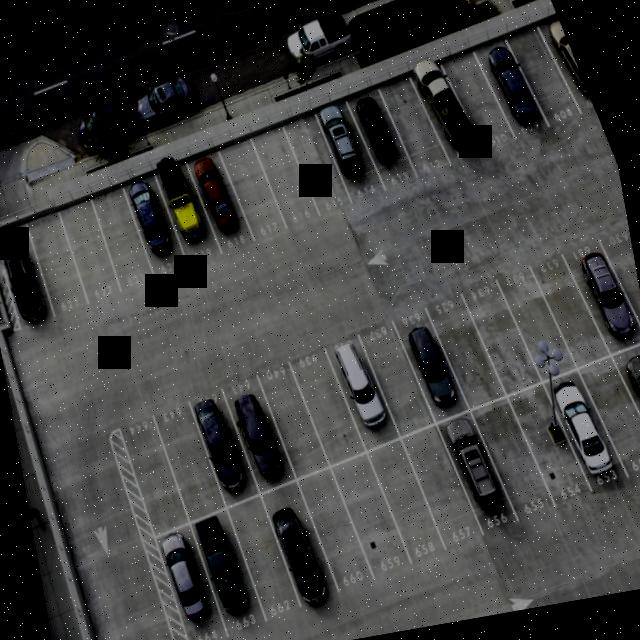car: (508, 375, 596, 514), (258, 470, 342, 610), (436, 406, 520, 546), (190, 508, 273, 640), (544, 364, 621, 494), (186, 388, 266, 510), (561, 231, 640, 353), (409, 52, 486, 173), (398, 310, 474, 432), (118, 170, 194, 292), (221, 376, 298, 492), (150, 527, 228, 640), (151, 156, 224, 275), (187, 142, 258, 261), (473, 36, 548, 146), (328, 339, 400, 450), (314, 97, 386, 204), (347, 80, 418, 188), (0, 213, 58, 332), (542, 20, 596, 120), (607, 333, 640, 472)
free: (294, 458, 376, 596), (368, 436, 452, 570), (428, 290, 512, 421), (468, 390, 552, 520), (403, 424, 485, 554), (440, 42, 522, 168), (228, 497, 306, 628), (328, 452, 409, 577), (84, 180, 162, 306), (153, 406, 233, 528), (115, 417, 192, 541), (356, 317, 434, 438), (290, 351, 366, 473), (574, 348, 640, 486), (464, 279, 540, 398), (254, 356, 328, 478), (497, 262, 574, 379), (53, 192, 128, 312), (378, 70, 453, 186), (216, 133, 290, 250), (250, 122, 324, 235), (282, 109, 356, 222), (508, 27, 582, 138), (21, 205, 92, 319), (534, 253, 602, 360), (601, 227, 640, 344)
